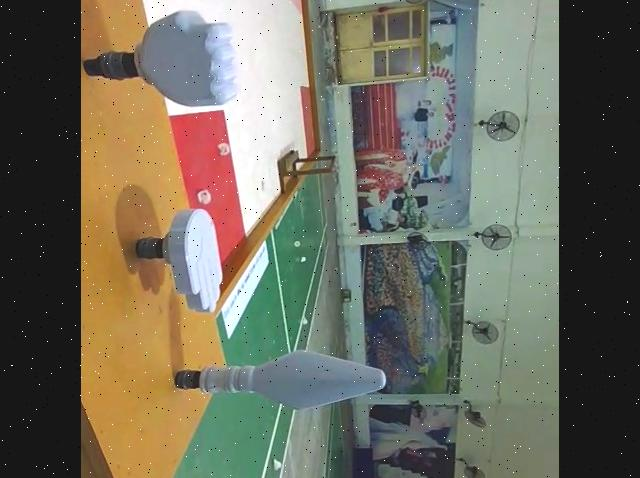Fist: (82, 12, 246, 110)
Hand: (129, 210, 228, 314)
Sph: (165, 348, 389, 415)
